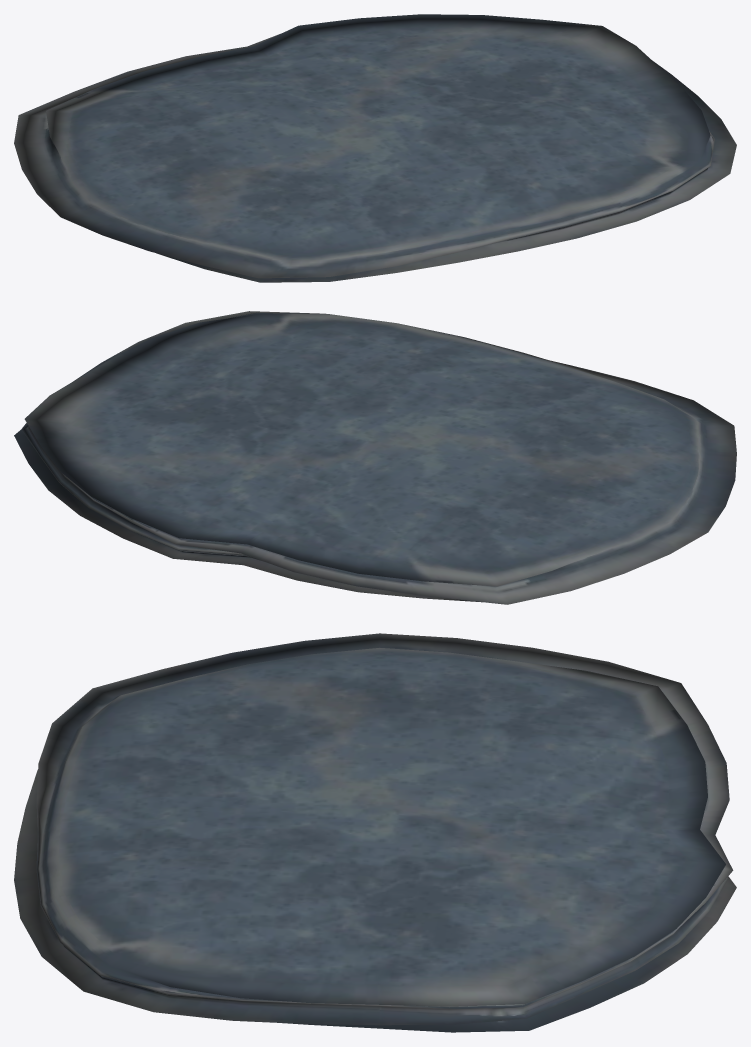
Rendered from thin_shale_03.glb.
The picture shows the model from 3 angles, top to bottom: view 1: azimuth 30°, elevation 25°; view 2: azimuth 150°, elevation 25°; view 3: azimuth 270°, elevation 25°; orthographic projection. The views are drawn at different scales.
Visible parts, largest first — view 1: thin_shale_03; view 2: thin_shale_03; view 3: thin_shale_03.
Part boxes in pixels (box(x1,y1,x2,y2)): thin_shale_03: box(14, 14, 736, 282); thin_shale_03: box(14, 311, 736, 604); thin_shale_03: box(14, 633, 736, 1032).
Size of the model in its own units: 0.0821 by 0.00505 by 0.0653.
Materials: 1 (1 with a texture image).
